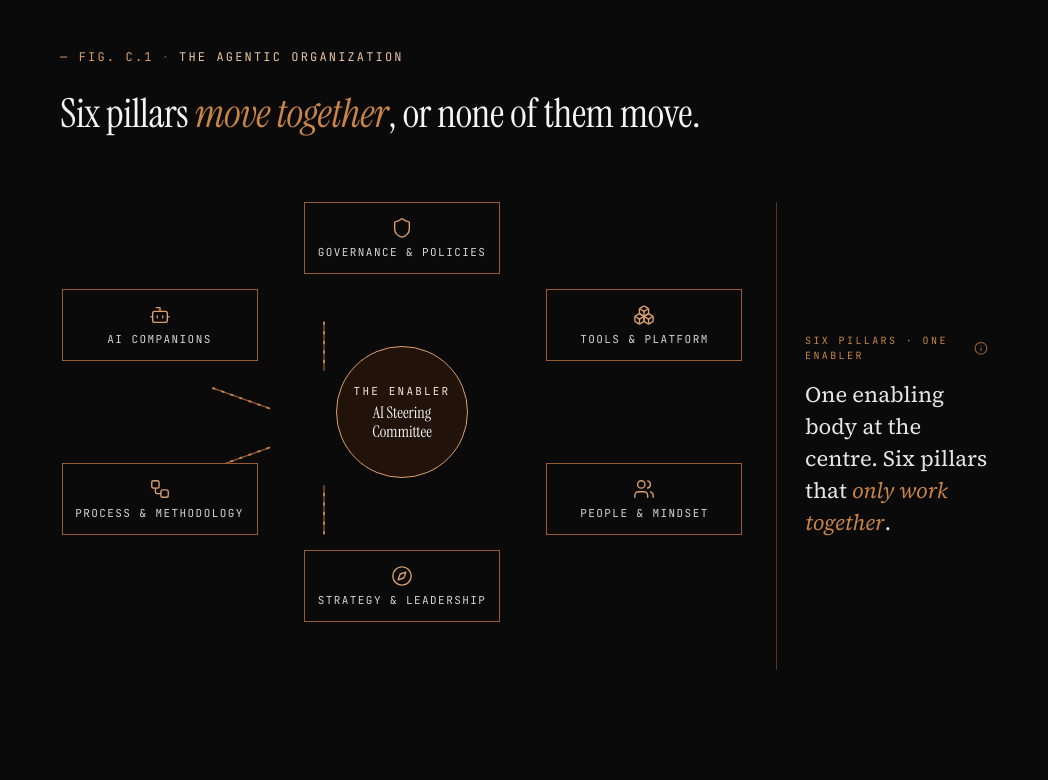
Test: hover opens exactly one decision › the hint lives and dies with the idle block, and needs no latch to do it
Expected: the element with test id "hint-icon" is shown, x1=974 y1=341 x2=988 y2=355
Hover over the button with test id "shape-pillar-strategy".
mouse_move(402, 586)  # box x1=304 y1=550 x2=500 y2=622
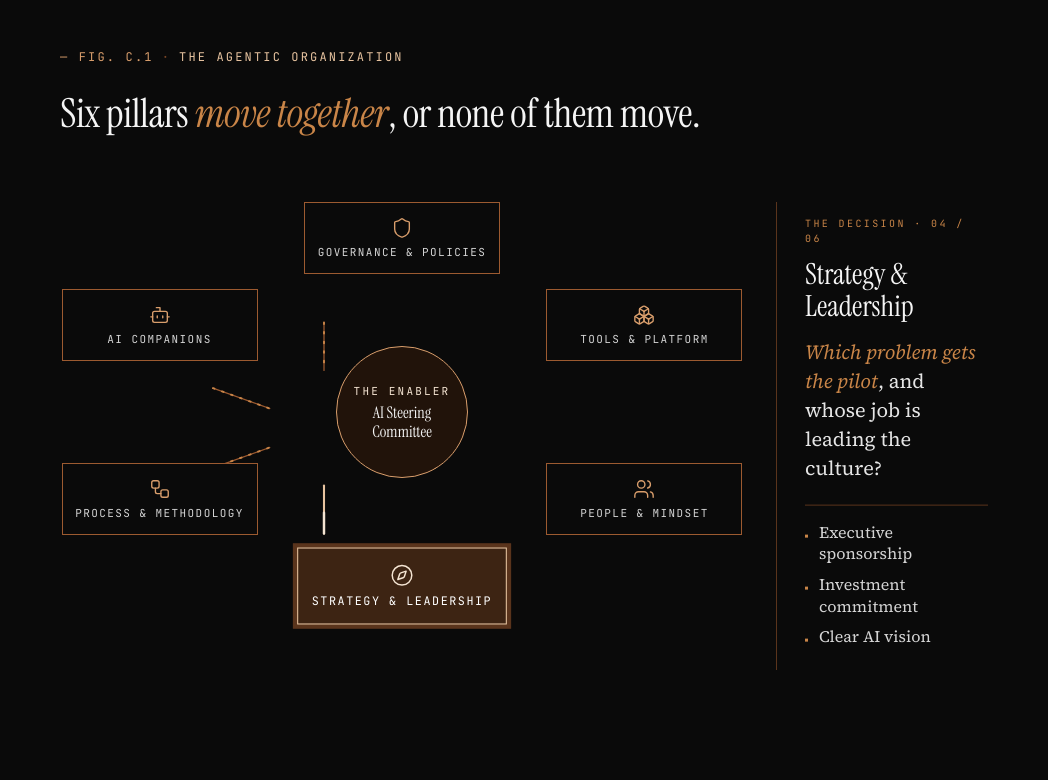
Now the element with test id "shape-decision-strategy" is shown, box x1=805 y1=216 x2=988 y2=656
Move the pointer off the button with test id "shape-pillar-strategy", box x1=297 y1=548 x2=507 y2=624
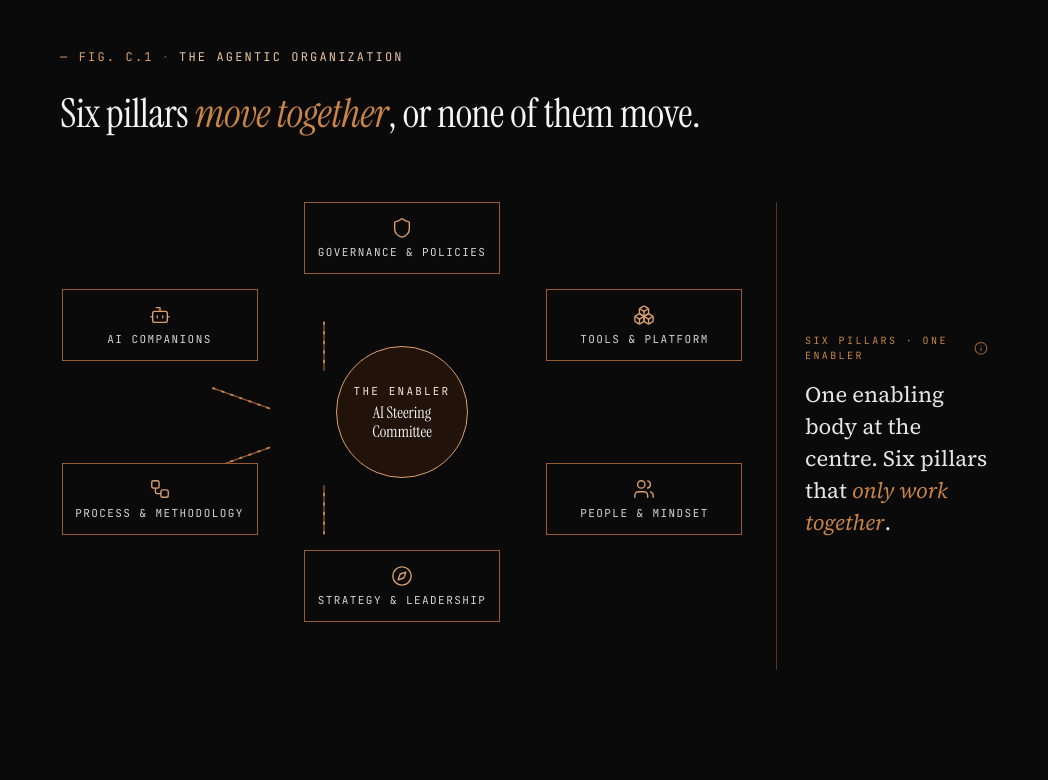
Now the element with test id "shape-idle" is shown, box x1=805 y1=333 x2=988 y2=539
Now the text with test id "shape-idle-eyebrow" reads "SIX PILLARS · ONE ENABLER", box x1=805 y1=334 x2=948 y2=362
Now the element with test id "hint-icon" is shown, box x1=974 y1=341 x2=988 y2=355
